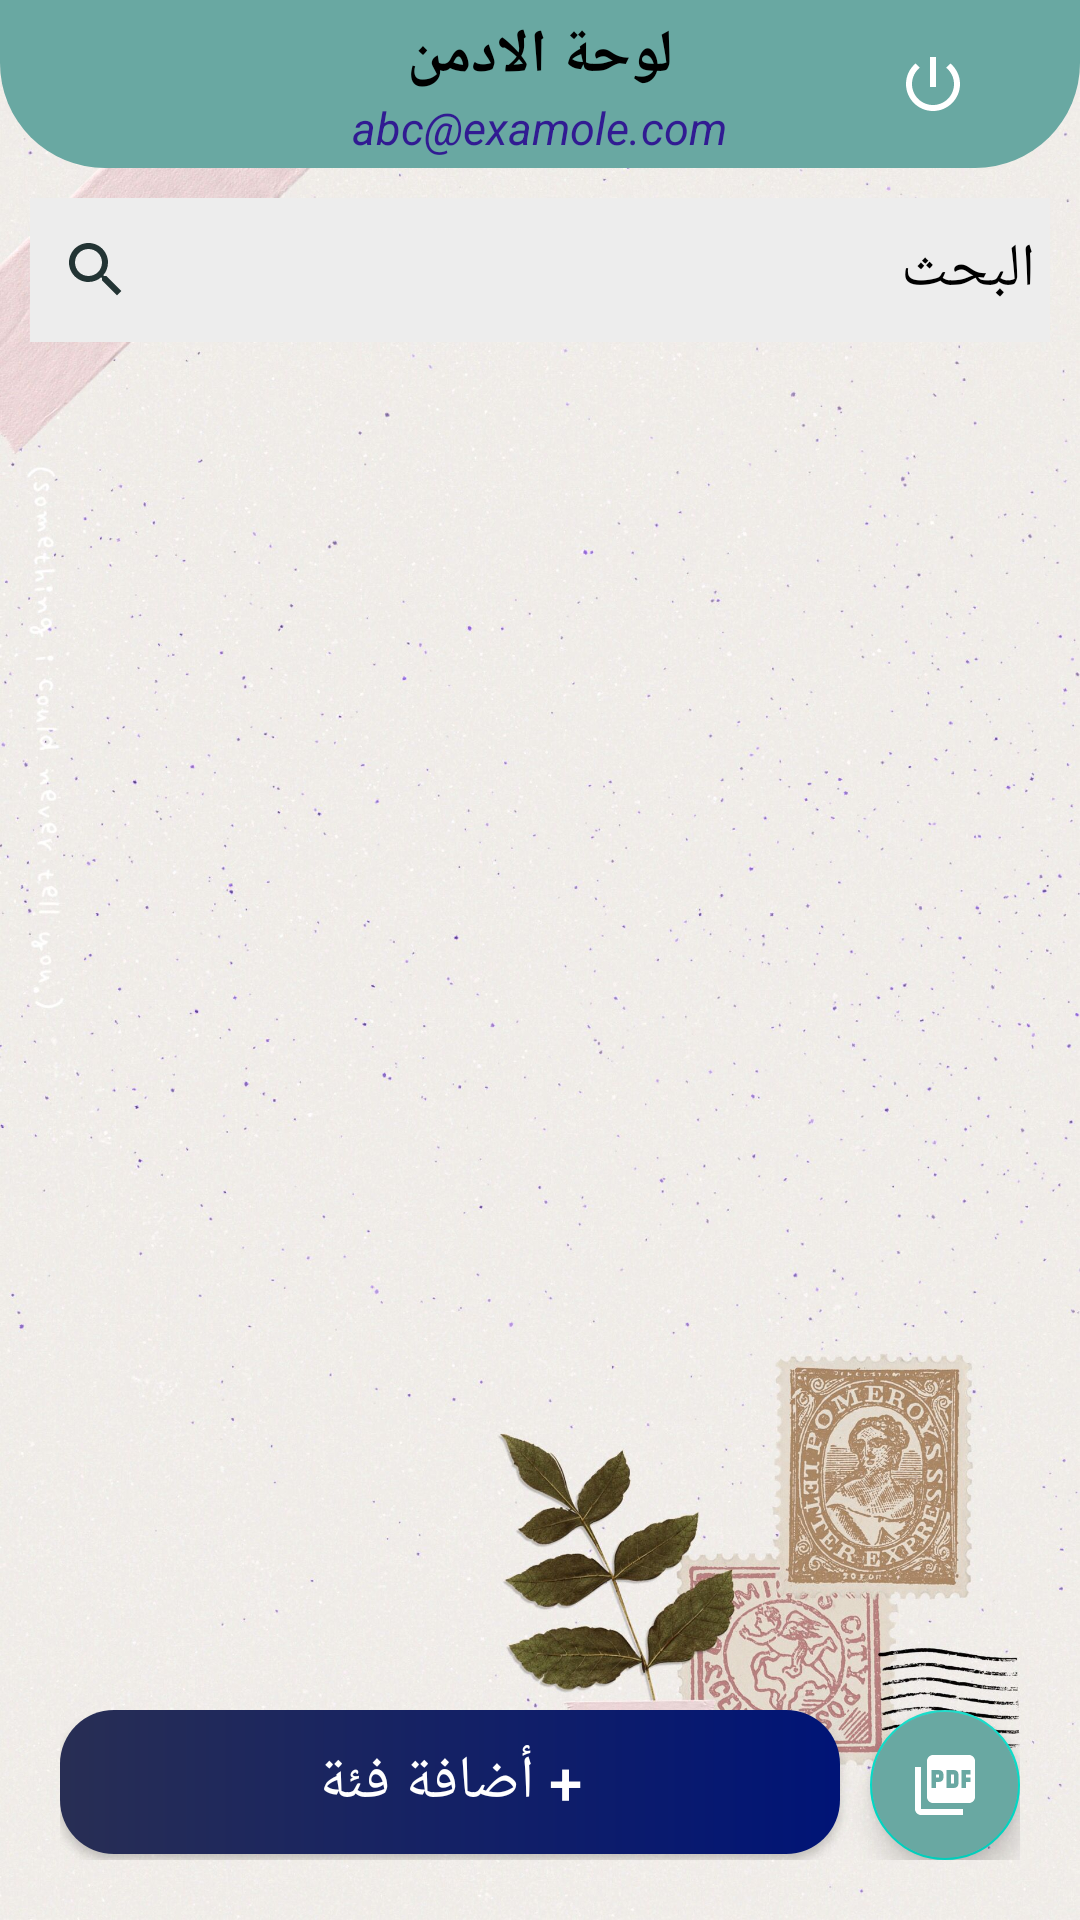

Named icons in this screenshot (1080x1920) and their centers, (x,y):
power: (933,84)
